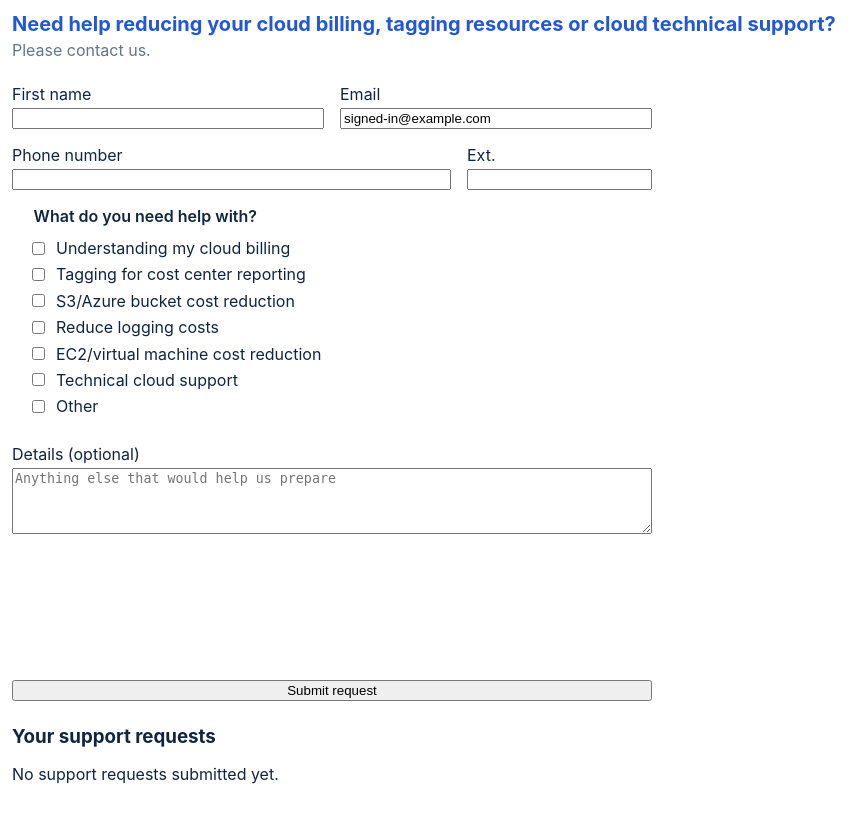
Test: SupportTab › surfaces the error when submitting fails and keeps what was typed
Step 1. Type "Dana" into the field labelled "First name" → (168, 118), box [12,108,324,129]
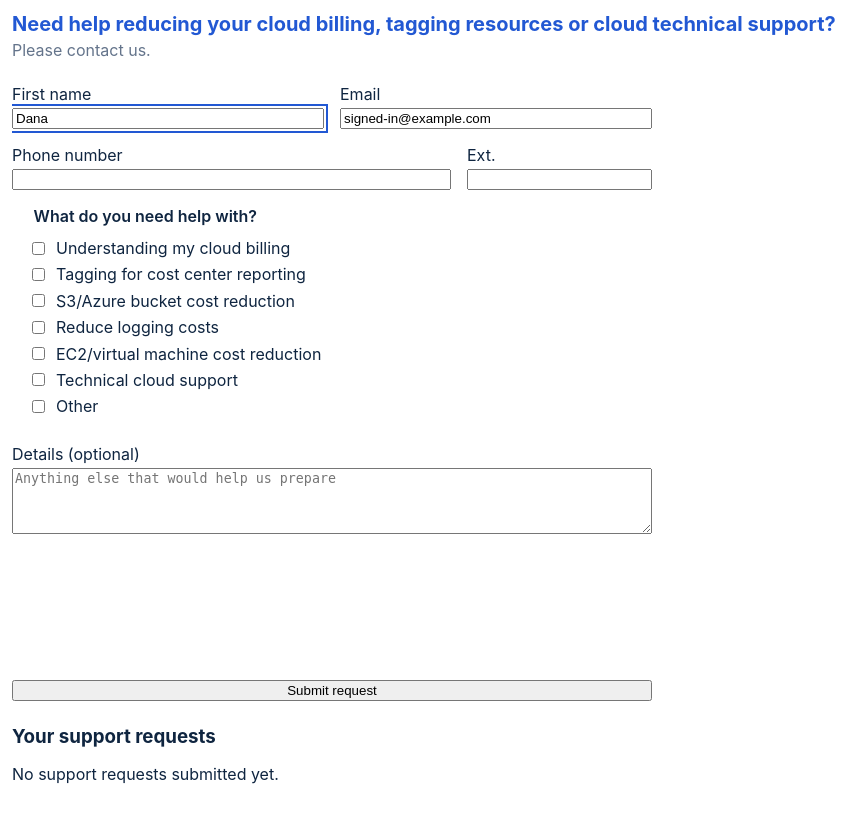
Step 2. Click the button "Submit request" → (332, 691), box [12,680,652,701]
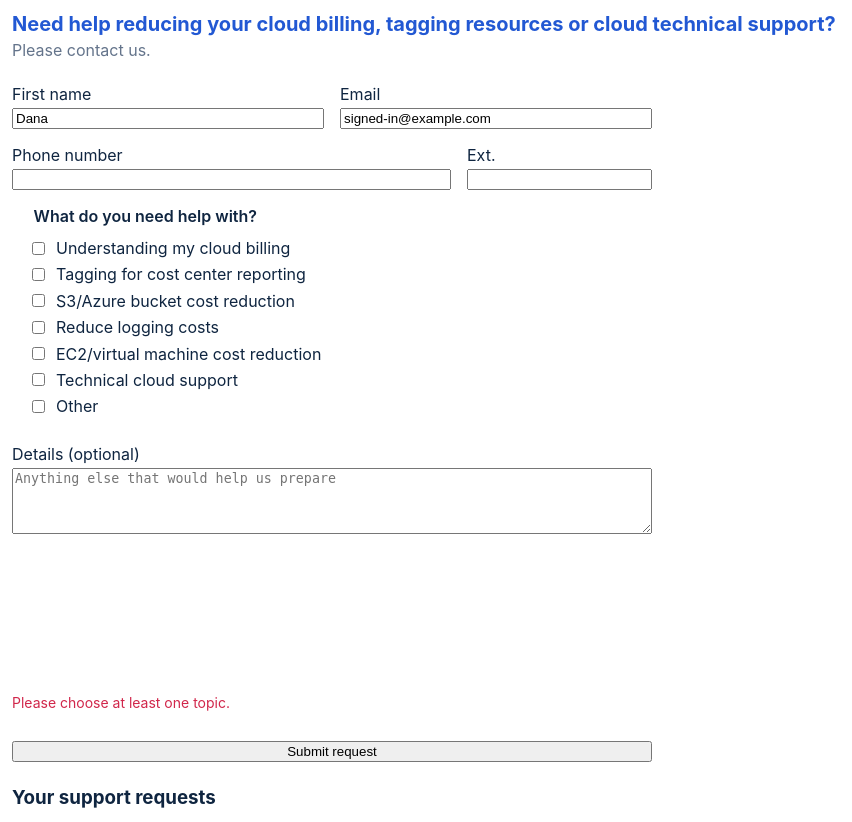
Check: the message reads "Please choose at least one topic.", box [12,694,230,711]
